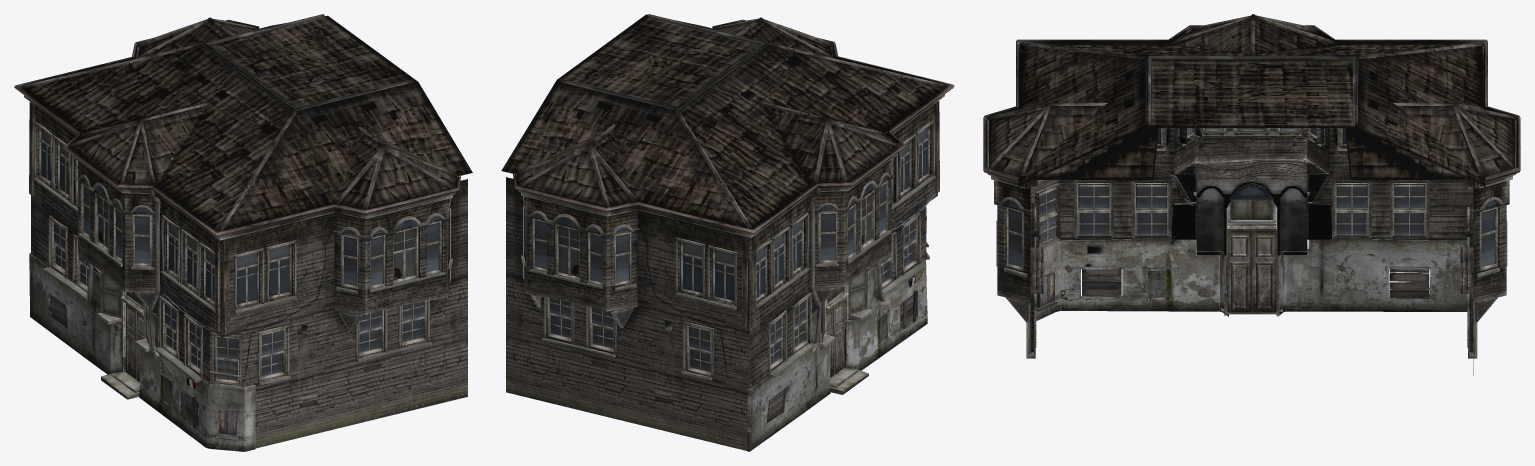
File: env-old-building-FBX.FBX
3 renders of one model, left to right at view 1: azimuth 30°, elevation 25°; view 2: azimuth 150°, elevation 25°; view 3: azimuth 270°, elevation 25°, orthographic. The views are drawn at different scales.
Visible parts, largest first — view 1: old-build-04-roof, old-build-02-upper, old-build-01-windows-door, old-build-03-base; view 2: old-build-04-roof, old-build-02-upper, old-build-01-windows-door, old-build-03-base; view 3: old-build-04-roof, old-build-02-upper, old-build-03-base, old-build-01-windows-door.
Boxes of the visible parts, <box> form: old-build-04-roof: <box>20,14,472,232</box>; old-build-02-upper: <box>14,19,467,448</box>; old-build-01-windows-door: <box>29,102,450,399</box>; old-build-03-base: <box>29,177,452,451</box>; old-build-04-roof: <box>501,14,948,229</box>; old-build-02-upper: <box>506,19,954,450</box>; old-build-01-windows-door: <box>523,101,939,394</box>; old-build-03-base: <box>521,175,935,451</box>; old-build-04-roof: <box>987,14,1516,186</box>; old-build-02-upper: <box>983,25,1520,375</box>; old-build-03-base: <box>996,130,1507,358</box>; old-build-01-windows-door: <box>994,128,1509,354</box>.
Bounding box in the file's own units: 171 × 163 × 243.
